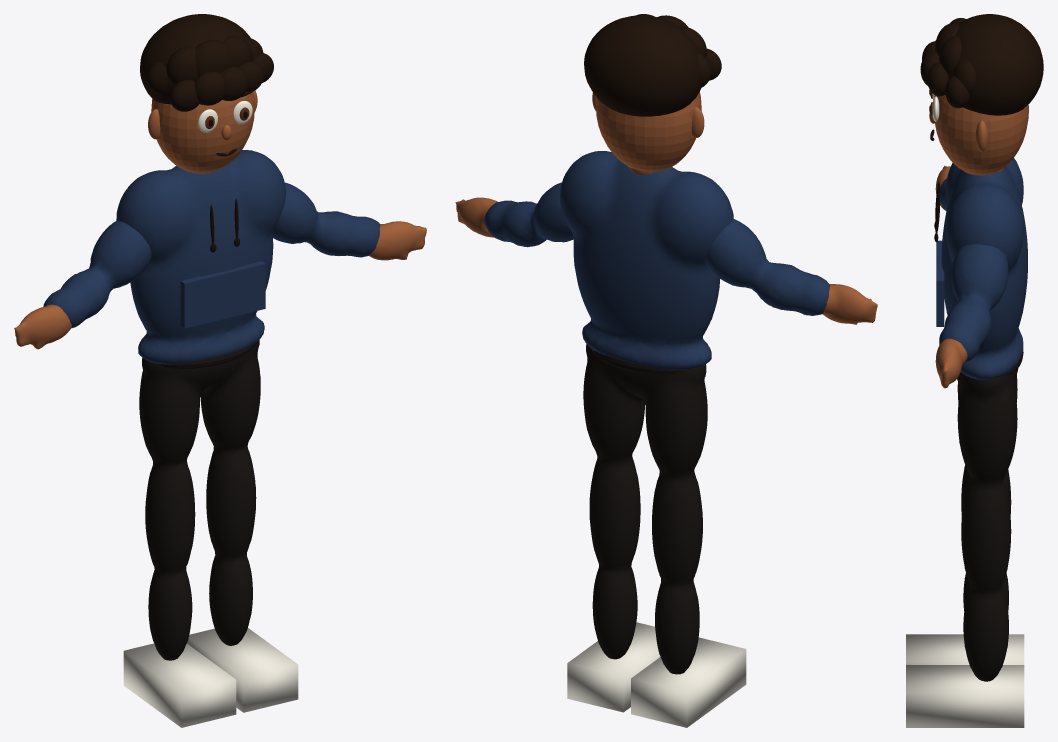
Rendered from center-specimen.glb.
3 views of the same model, side by side, from view 1: azimuth 30°, elevation 25°; view 2: azimuth 150°, elevation 25°; view 3: azimuth 270°, elevation 25° (orthographic). The views are drawn at different scales.
Visible parts, largest first — view 1: Natural trouser hips and legs, Smooth fitted hoodie, White sneaker, White sneaker.001, Smooth tapered hoodie sleeve, Natural oval head, Smooth tapered hoodie sleeve.001, Kangaroo pocket, Full curly hair cap, Smooth open hand, Smooth open hand.001, Integrated hair curl.002 (+5 smaller); view 2: Natural trouser hips and legs, Smooth fitted hoodie, Full curly hair cap, White sneaker, Smooth tapered hoodie sleeve, Natural oval head, White sneaker.001, Smooth tapered hoodie sleeve.001, Smooth open hand, Smooth open hand.001; view 3: Natural trouser hips and legs, Smooth fitted hoodie, White sneaker.001, Full curly hair cap, Smooth tapered hoodie sleeve.001, Natural oval head, White sneaker, Smooth open hand.001, Kangaroo pocket, Integrated hair curl.003, Integrated hair curl.009, Integrated hair curl.008 (+4 smaller).
Part boxes in pixels (box(x1,y1,x2,y2)): Natural trouser hips and legs: box(139, 340, 260, 660); Smooth fitted hoodie: box(116, 150, 286, 364); White sneaker: box(123, 643, 236, 727); White sneaker.001: box(187, 628, 298, 712); Smooth tapered hoodie sleeve: box(43, 220, 151, 328); Natural oval head: box(151, 91, 254, 173); Smooth tapered hoodie sleeve.001: box(272, 182, 380, 257); Kangaroo pocket: box(180, 261, 265, 328); Full curly hair cap: box(140, 14, 253, 104); Smooth open hand: box(14, 304, 71, 349); Smooth open hand.001: box(369, 221, 426, 260); Integrated hair curl.002: box(195, 39, 232, 76); Natural trouser hips and legs: box(583, 344, 707, 674); Smooth fitted hoodie: box(560, 151, 733, 370); Full curly hair cap: box(584, 15, 701, 116); White sneaker: box(631, 637, 746, 727); Smooth tapered hoodie sleeve: box(705, 219, 830, 315); Natural oval head: box(595, 91, 701, 171); White sneaker.001: box(567, 622, 660, 712); Smooth tapered hoodie sleeve.001: box(484, 182, 573, 247); Smooth open hand: box(823, 284, 877, 324); Smooth open hand.001: box(455, 197, 497, 237); Natural trouser hips and legs: box(957, 368, 1018, 681); Smooth fitted hoodie: box(941, 158, 1027, 379); White sneaker.001: box(906, 665, 1024, 727); Full curly hair cap: box(945, 14, 1043, 115); Smooth tapered hoodie sleeve.001: box(939, 244, 1008, 362); Natural oval head: box(934, 95, 1028, 175); White sneaker: box(906, 634, 1024, 664); Smooth open hand.001: box(935, 338, 967, 388); Kangaroo pocket: box(936, 240, 944, 326); Integrated hair curl.003: box(939, 36, 961, 74); Integrated hair curl.009: box(945, 76, 969, 108); Integrated hair curl.008: box(927, 62, 948, 96).
Size of what is drawn, in the model's own units: 3.45 by 5.33 by 0.98.
